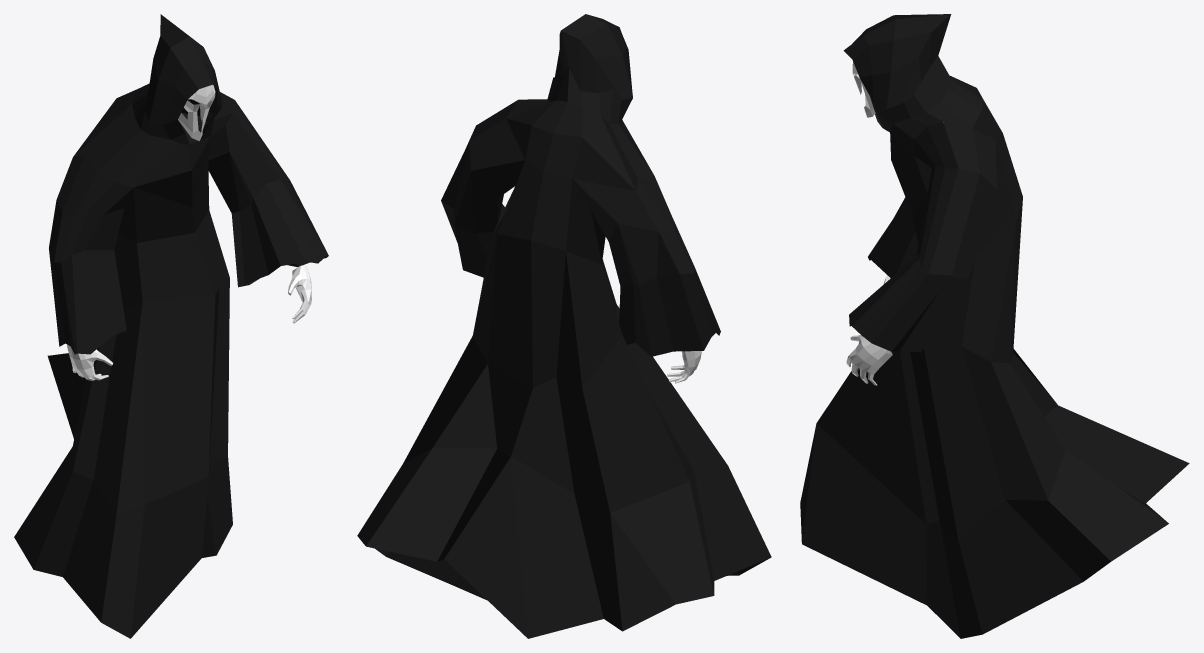
File: ReaperWalk(39).obj
The picture shows the model from 3 angles, left to right: view 1: azimuth 30°, elevation 25°; view 2: azimuth 150°, elevation 25°; view 3: azimuth 270°, elevation 25°; orthographic projection. The views are drawn at different scales.
Visible parts, largest first — view 1: Plane003; view 2: Plane003; view 3: Plane003.
Part boxes in pixels (x1,y1,x2,y2): Plane003: [14, 14, 328, 638]; Plane003: [357, 14, 771, 638]; Plane003: [800, 14, 1189, 638].
Size of the model in its own units: 106 by 214 by 127.
